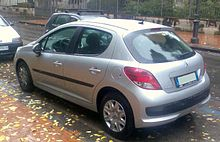car: (15, 20, 213, 134), (44, 13, 113, 36), (1, 15, 23, 57)
